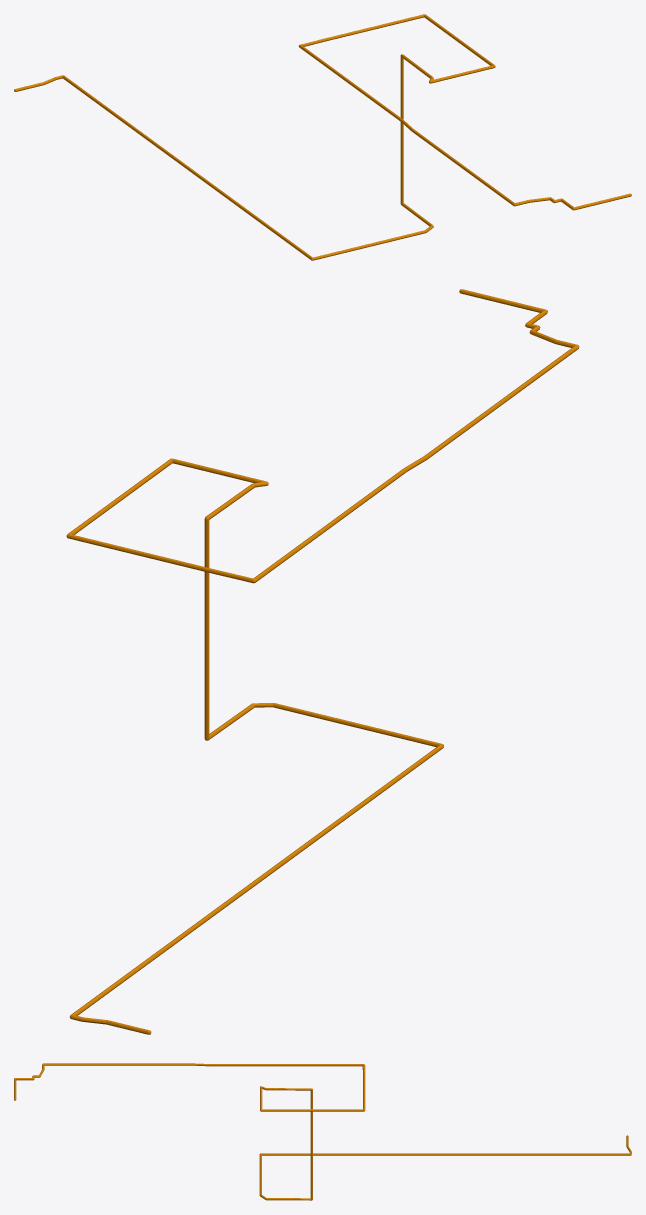
The picture shows the model from 3 angles, top to bottom: view 1: azimuth 30°, elevation 25°; view 2: azimuth 150°, elevation 25°; view 3: azimuth 270°, elevation 25°; orthographic projection. The views are drawn at different scales.
Size of the model in its own units: 1656 by 1020 by 5095.
